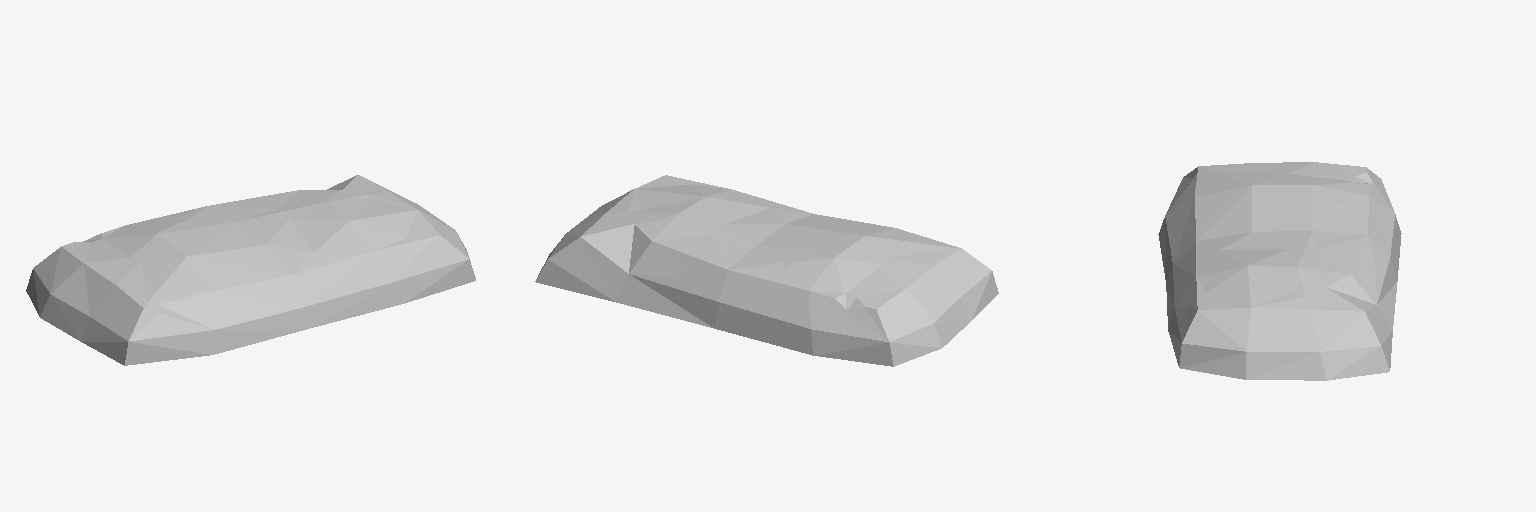
File: Grave_9_1.obj
3 views of the same model, side by side, from view 1: azimuth 30°, elevation 25°; view 2: azimuth 150°, elevation 25°; view 3: azimuth 270°, elevation 25° (orthographic).
Parts seen in each view (by area): view 1: Grave_9_1; view 2: Grave_9_1; view 3: Grave_9_1.
Part boxes in pixels (x1,y1,x2,y2): Grave_9_1: (26, 175, 475, 365); Grave_9_1: (535, 175, 998, 366); Grave_9_1: (1158, 162, 1401, 380).
Bounding box in the file's own units: 1.97 × 0.2922 × 1.06.